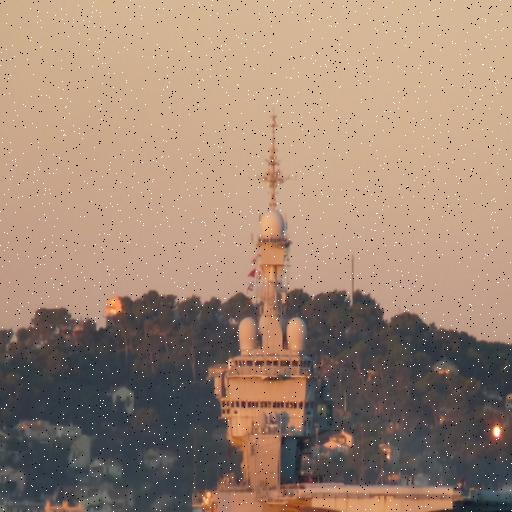Portanaves: (203, 105, 512, 512)
